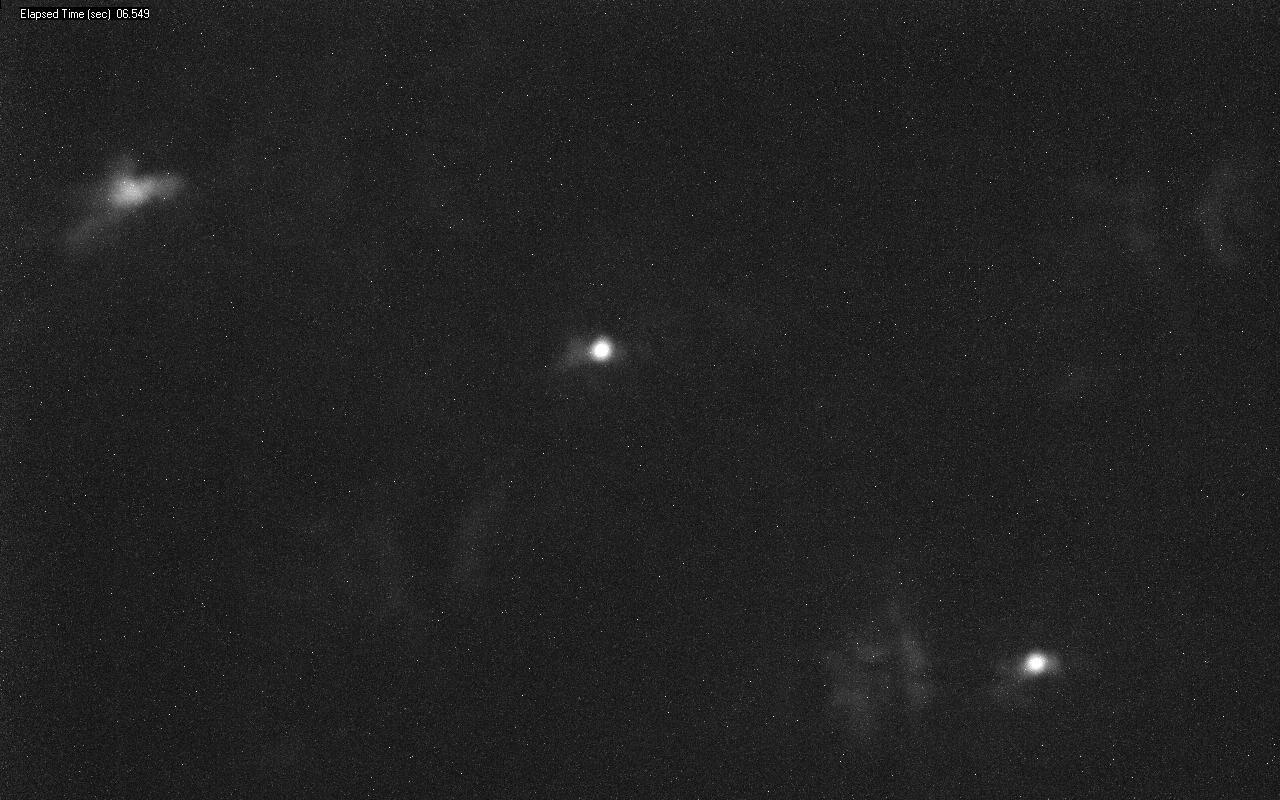Bead: (1024, 653, 1047, 673), (592, 338, 611, 360)
